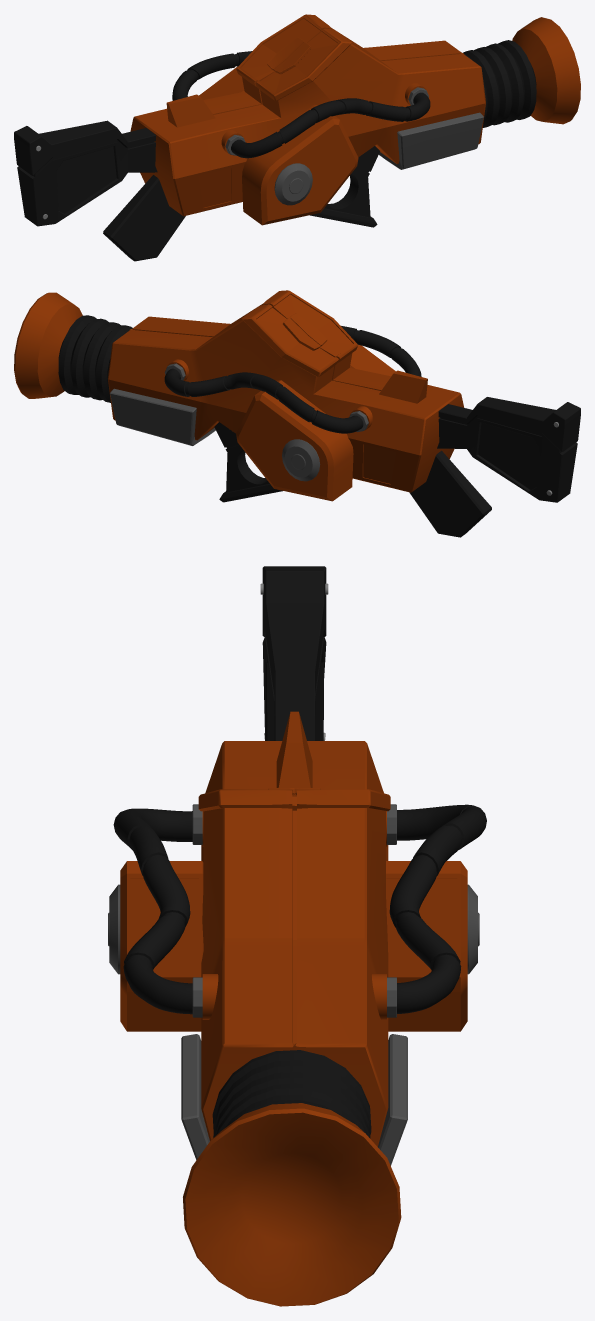
Rendered from Standard1.obj.
3 views of the same model, one above another, from view 1: azimuth 30°, elevation 25°; view 2: azimuth 150°, elevation 25°; view 3: azimuth 270°, elevation 25° (orthographic). The views are drawn at different scales.
Visible parts, largest first — view 1: polySurface2, pCube8, pCylinder1_pCylinder1, pCube7, pCube9, sweep2, polySurface3, polySurface1, sweep3, pCylinder4, pCube10; view 2: polySurface2, pCube8, pCylinder1_pCylinder1, pCube10, pCube9, sweep3, polySurface3, polySurface1, pCylinder16, sweep2, pCube7; view 3: polySurface2, pCylinder1_pCylinder1, pCube8, sweep3, sweep2, pCube7, pCube10, polySurface3, pCylinder4, pCylinder16.
Part boxes in pixels (x1,y1,x2,y2): polySurface2: (130, 14, 485, 216); pCube8: (14, 120, 157, 226); pCylinder1_pCylinder1: (463, 17, 580, 127); pCube7: (242, 105, 358, 225); pCube9: (103, 175, 185, 261); sweep2: (231, 92, 430, 158); polySurface3: (379, 112, 483, 169); polySurface1: (310, 146, 379, 227); sweep3: (172, 51, 252, 100); pCylinder4: (274, 163, 312, 205); pCube10: (199, 66, 244, 100); polySurface2: (108, 290, 464, 492); pCube8: (437, 397, 580, 502); pCylinder1_pCylinder1: (14, 292, 132, 402); pCube10: (236, 380, 353, 501); pCube9: (409, 450, 491, 537); sweep3: (164, 368, 363, 433); polySurface3: (110, 388, 215, 445); polySurface1: (214, 422, 282, 502); pCylinder16: (282, 439, 320, 481); sweep2: (341, 326, 421, 376); pCube7: (350, 344, 395, 376); polySurface2: (198, 711, 390, 1146); pCylinder1_pCylinder1: (183, 1050, 401, 1306); pCube8: (262, 566, 326, 740); sweep3: (389, 804, 486, 1013); sweep2: (113, 808, 192, 1014); pCube7: (120, 861, 203, 1031); pCube10: (386, 861, 467, 1031); polySurface3: (181, 1034, 407, 1165); pCylinder4: (108, 884, 120, 974); pCylinder16: (467, 884, 479, 974).
Bounding box in the file's own units: 55.84 × 20.65 × 17.23.
